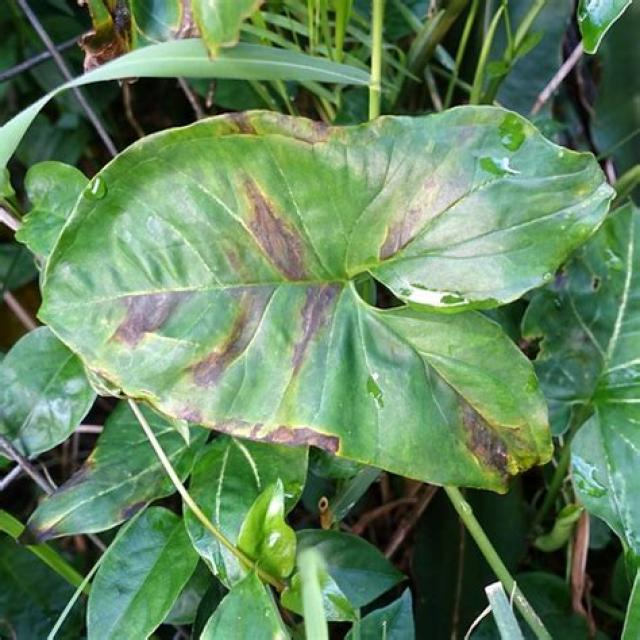blight: (107, 177, 350, 395)
